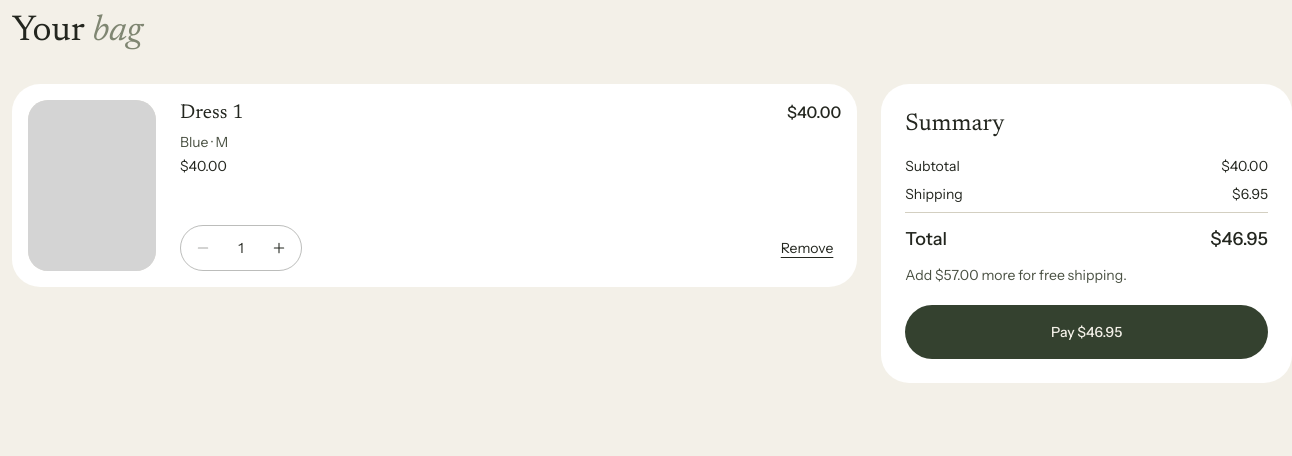
Scenario: CartPage › Pay › says nothing was charged for any other failure, and lets the user try again
Click the button "Pay $46.95": (1087, 332) [905,305,1268,359]
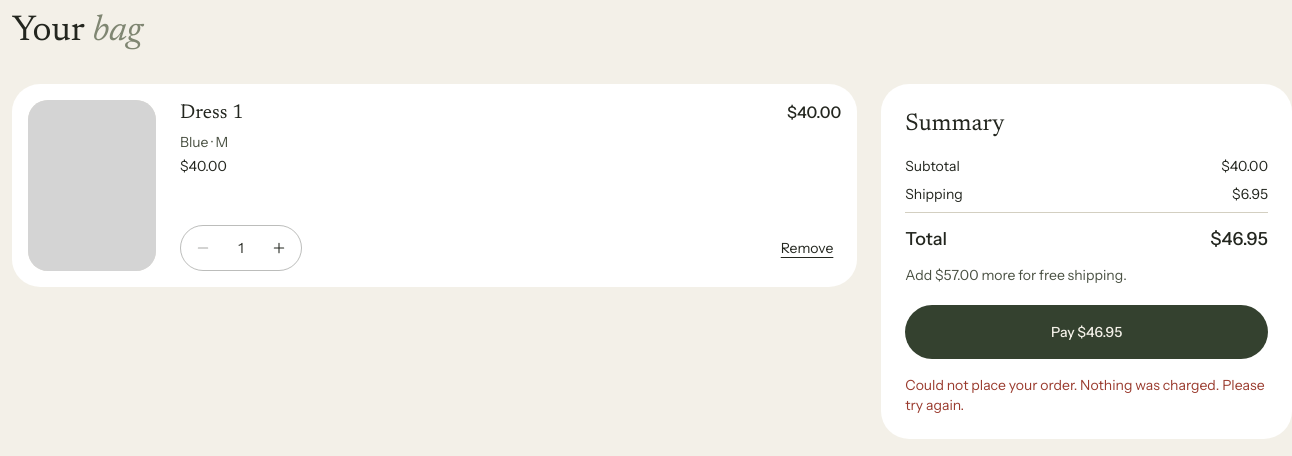
Expected: the text "Could not place your order. Nothing was charged. Please try again." is shown, [905,375,1268,415]
